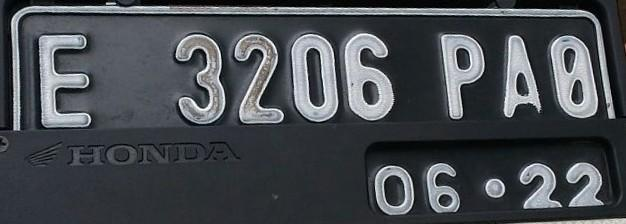0: (285, 29, 340, 126)
2: (556, 160, 606, 208)
3: (170, 28, 230, 126)
6: (342, 31, 408, 128)
A: (495, 31, 545, 121)
E: (32, 29, 102, 129)
O: (552, 32, 604, 118)
P: (428, 32, 491, 122)
Z: (227, 34, 286, 128)
